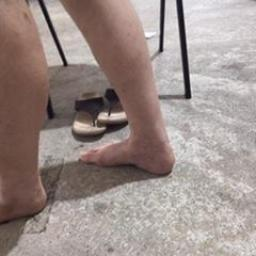Medial View -Right Foot-: (74, 118, 184, 190)
